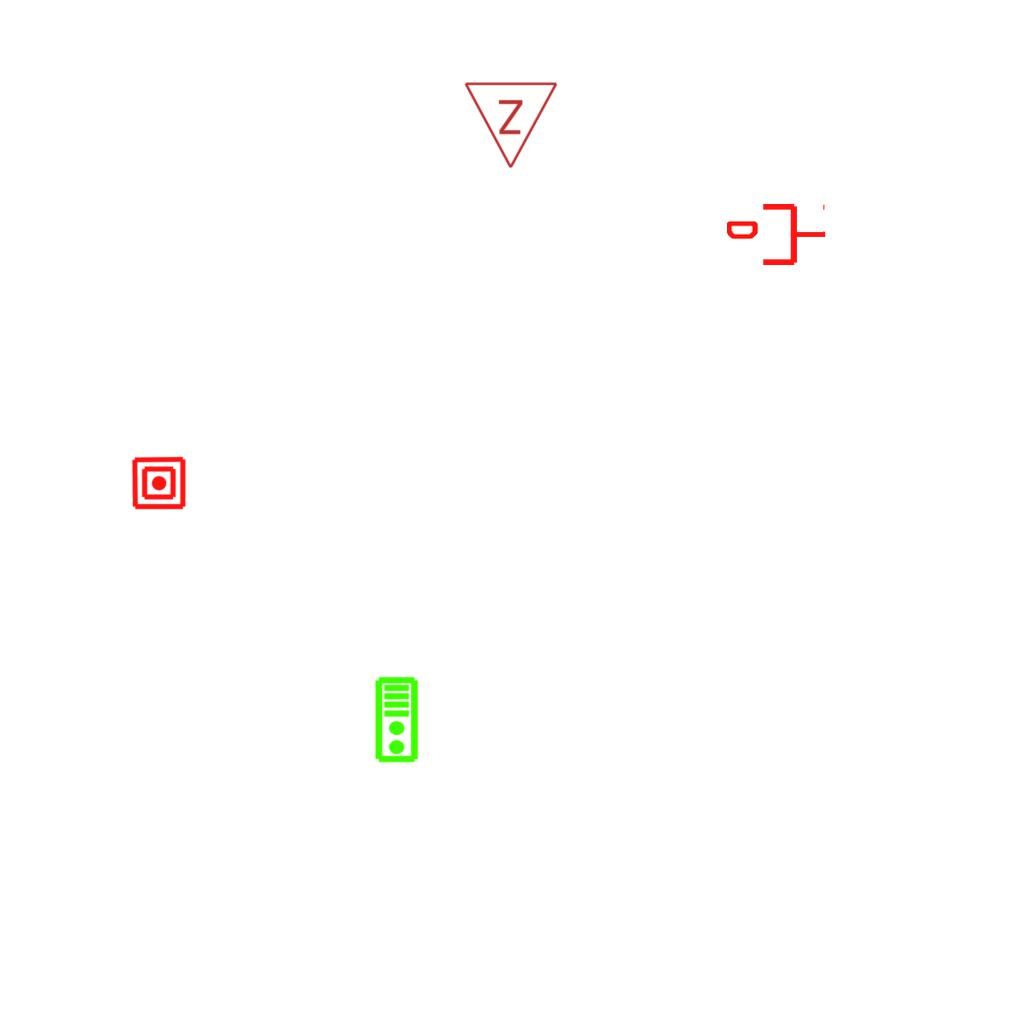Datenanschluss_einfach: (727, 200, 827, 269)
Gegensprechanlage_mit_Video: (374, 676, 421, 764)
NAM-Nichtautomatischer_Melder: (131, 455, 187, 511)
Zimmersignalleuchte: (463, 75, 561, 175)
